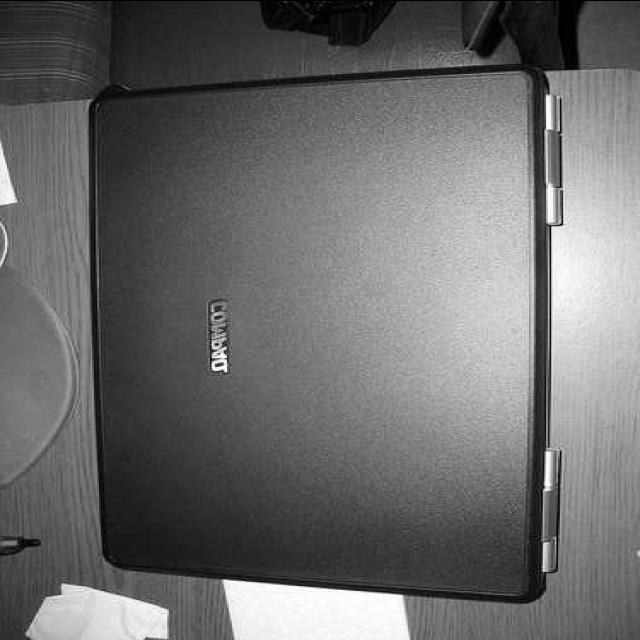laptop: (81, 73, 587, 600)
